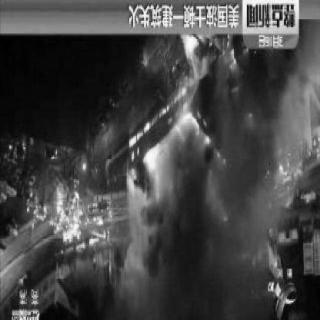Fire: (218, 43, 260, 133)
